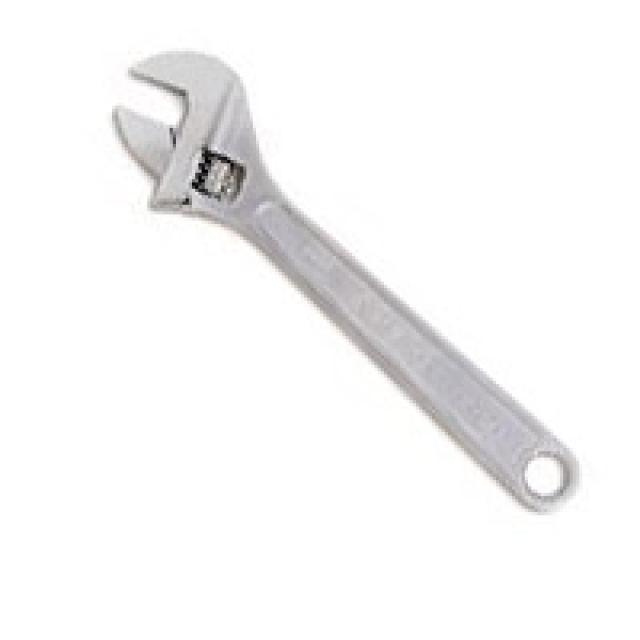wrench: (105, 32, 610, 518)
